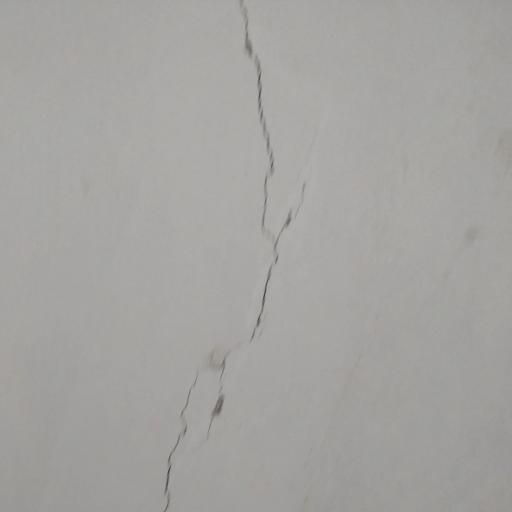minor_crack: (156, 0, 321, 512)
